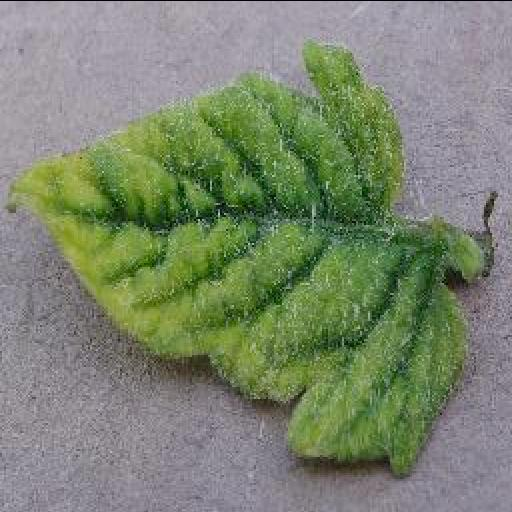disease_tomato: (2, 38, 472, 470)
